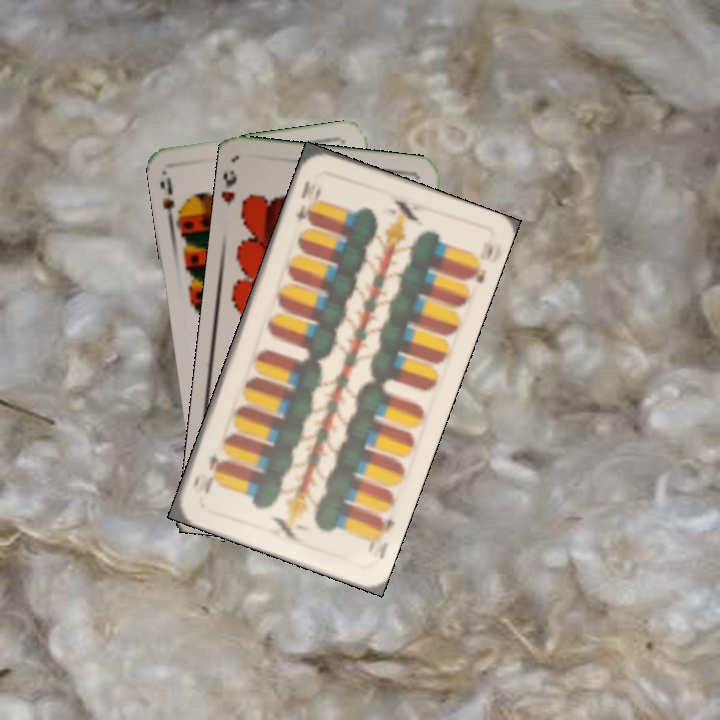E10: (369, 512, 397, 562), (291, 176, 313, 228)
H9: (220, 167, 239, 207)
S9: (156, 170, 187, 229)
